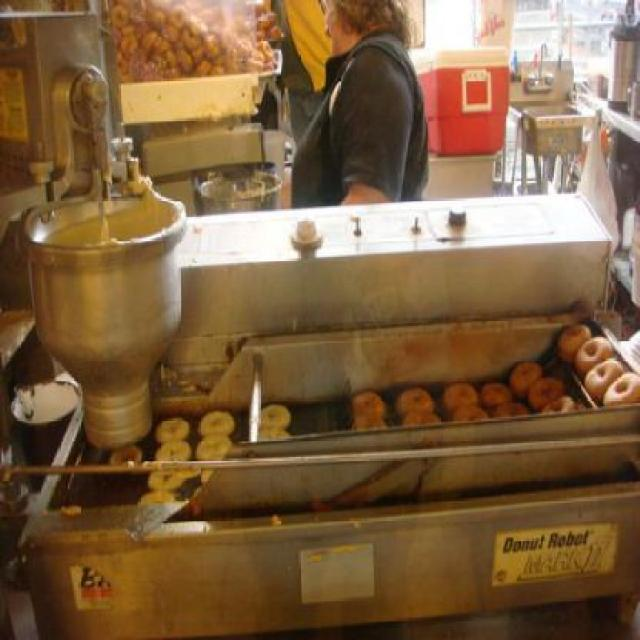Donuts: (124, 328, 638, 502), (110, 2, 288, 82)
